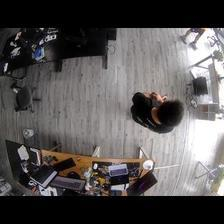normal: (130, 90, 183, 134)
